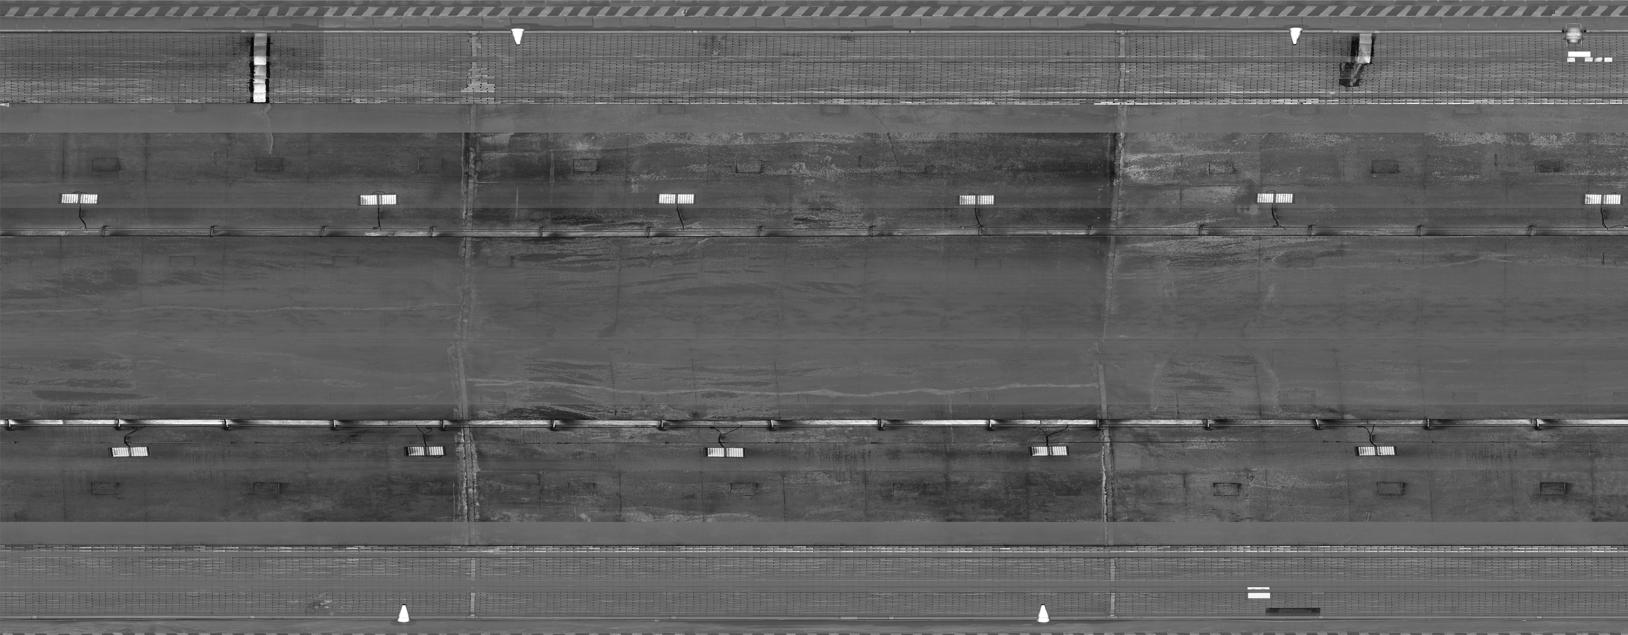light: (52, 188, 103, 208), (1251, 188, 1302, 208), (104, 443, 155, 462), (352, 189, 403, 208), (399, 439, 450, 458), (646, 189, 697, 208), (700, 443, 751, 462), (951, 190, 1002, 209), (1026, 440, 1077, 459), (1349, 443, 1400, 462), (1576, 189, 1627, 208)
